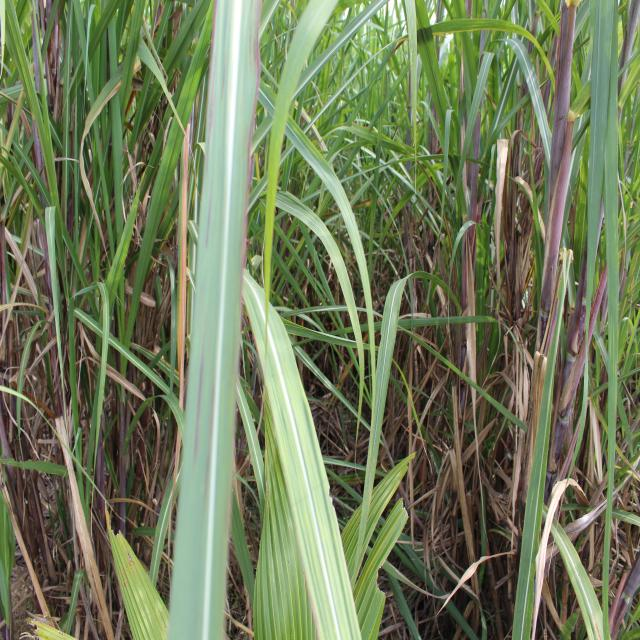Sugarcane: (508, 2, 634, 617), (164, 0, 259, 622), (328, 187, 433, 640), (220, 216, 325, 640), (282, 302, 373, 627), (73, 3, 153, 280), (262, 2, 324, 327), (318, 154, 378, 478), (580, 0, 616, 537), (513, 256, 570, 579), (121, 100, 185, 362), (335, 4, 423, 173), (399, 335, 526, 430), (420, 16, 554, 106), (363, 276, 406, 550), (254, 446, 314, 638), (3, 3, 54, 213), (160, 3, 218, 162), (124, 5, 168, 204), (285, 2, 351, 133), (347, 474, 405, 596), (547, 518, 604, 640), (414, 5, 454, 177), (45, 205, 69, 482), (227, 450, 261, 638), (86, 46, 113, 267), (104, 5, 127, 263), (458, 52, 495, 211), (268, 213, 318, 326), (0, 379, 69, 455), (88, 300, 111, 515), (235, 374, 266, 529), (16, 318, 44, 476), (377, 561, 426, 640), (68, 0, 89, 142), (396, 313, 502, 329), (2, 455, 68, 478)
